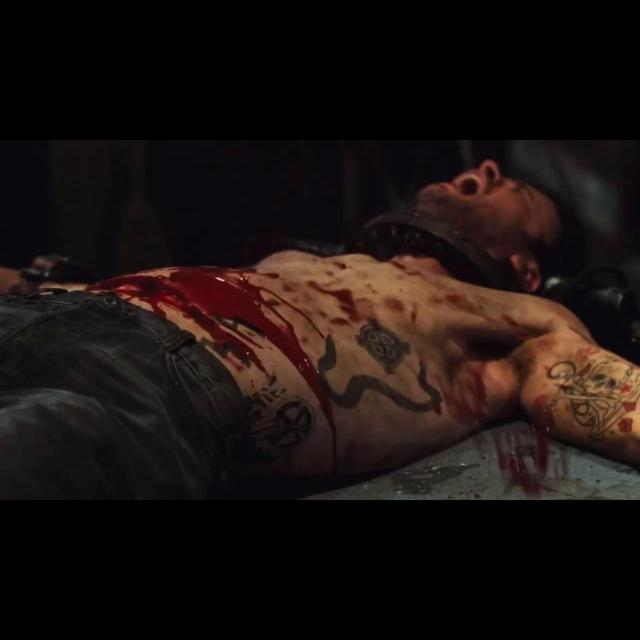blood: (86, 250, 640, 476)
